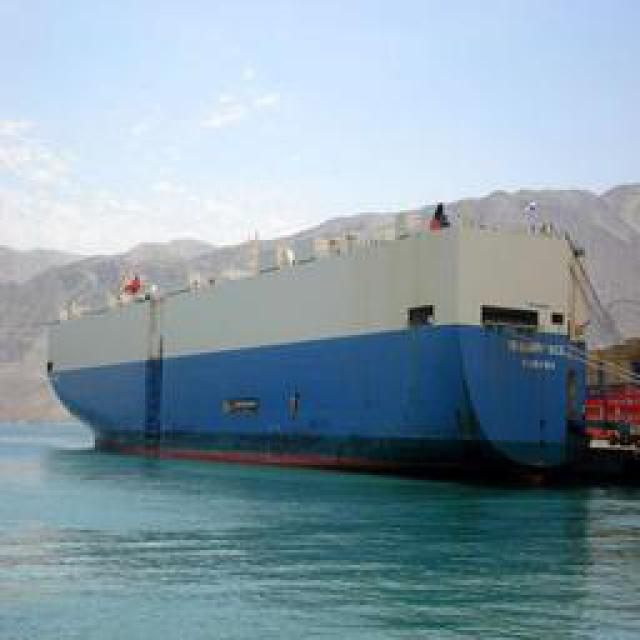Ship: (43, 195, 640, 473)
